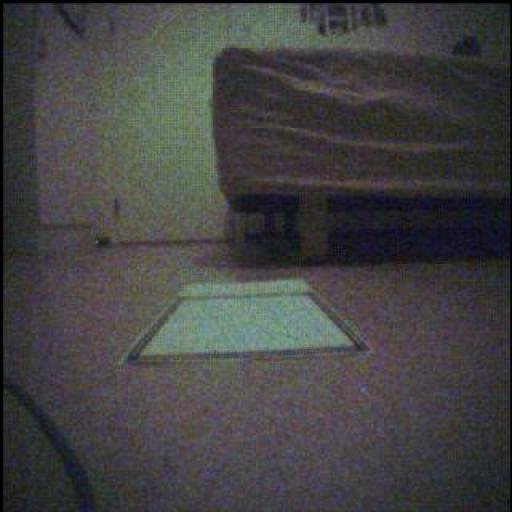pad: (124, 281, 369, 364)
